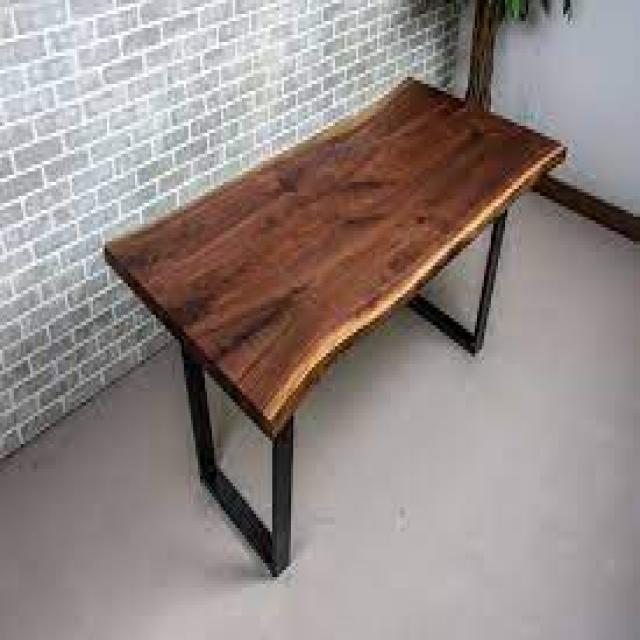Woods: (102, 77, 568, 577)
